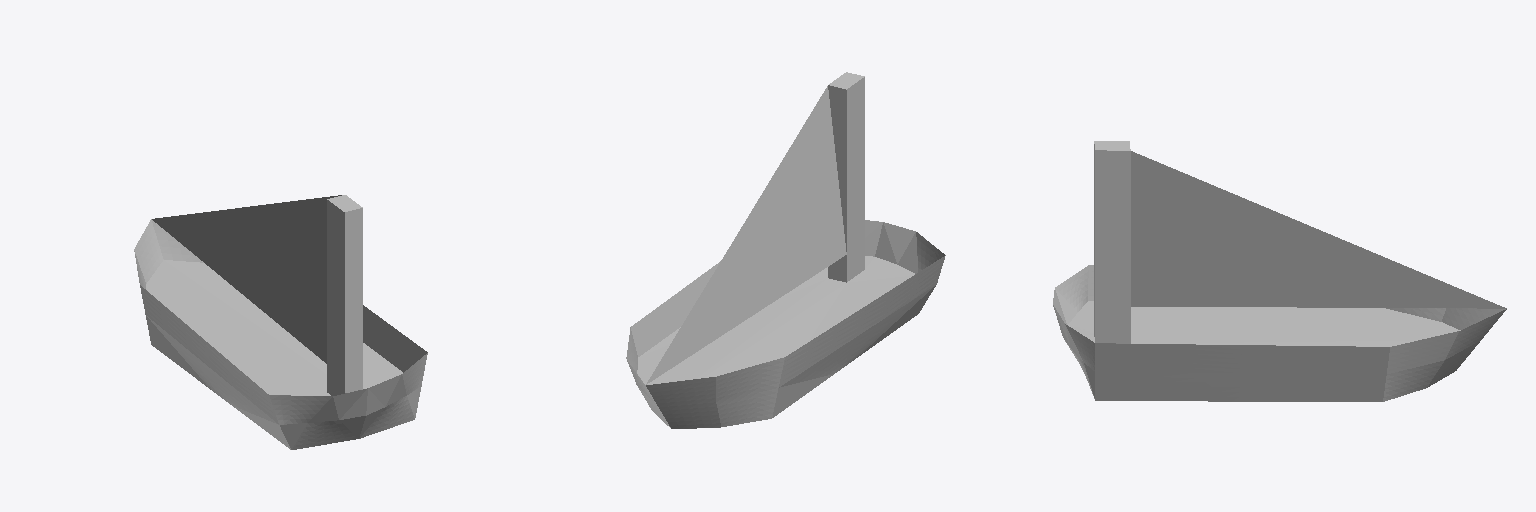
The model's file is 5NumPoints.obj.
The picture shows the model from 3 angles: view 1: azimuth 30°, elevation 25°; view 2: azimuth 150°, elevation 25°; view 3: azimuth 270°, elevation 25°; orthographic projection.
Visible parts, largest first — view 1: Cube.001_Cube.002; view 2: Cube.001_Cube.002; view 3: Cube.001_Cube.002.
Part boxes in pixels (x1,y1,x2,y2): Cube.001_Cube.002: (134,195,427,449); Cube.001_Cube.002: (626,72,945,428); Cube.001_Cube.002: (1053,141,1506,401).
Bounding box in the file's own units: 5.35 × 7 × 12.8.